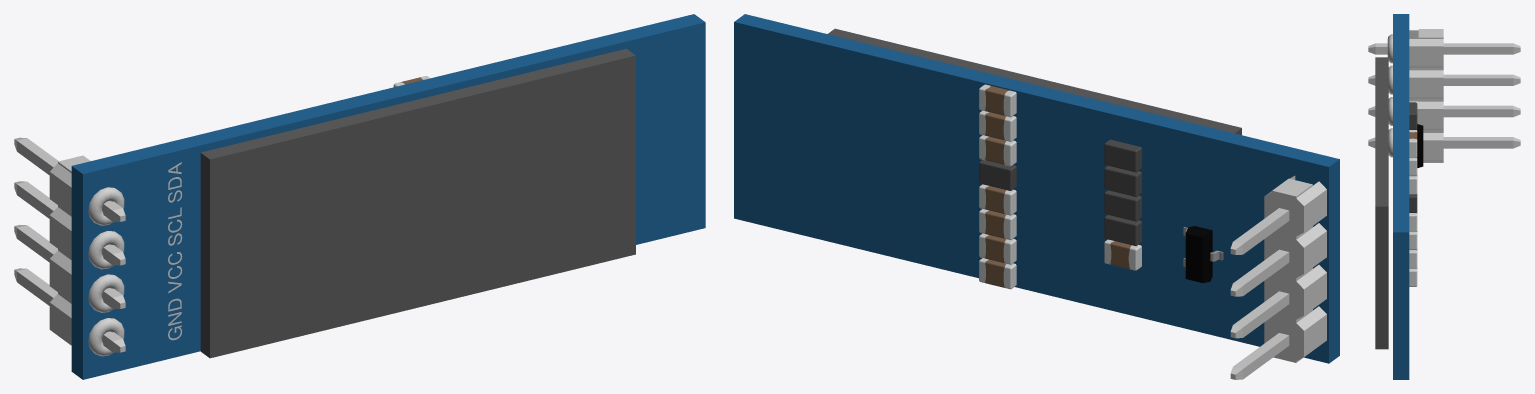
File: OLED 128x32 Display.obj
The picture shows the model from 3 angles, left to right: view 1: azimuth 30°, elevation 25°; view 2: azimuth 150°, elevation 25°; view 3: azimuth 270°, elevation 25°; orthographic projection. The views are drawn at different scales.
Visible parts, largest first — view 1: Solid1:16, Solid1:15, Solid1, Srf1, Solid4, Solid1:11, Solid2, Solid3; view 2: Solid1:15, Solid1, Solid1:16, Solid1:17, Solid1:9, Solid1:2, Solid1:14, Solid1:1, Solid1:4, Solid1:12, Solid1:8, Solid1:10 (+5 smaller); view 3: Solid1, Solid1:15, Solid1:16, Solid1:17, Solid1:2, Solid1:9, Solid1:3, Solid1:1, Solid1:4, Solid1:13, Solid1:5, Solid1:12 (+2 smaller).
Boxes of the visible parts, x1,y1,x2,y2 form: Solid1:16: (200, 48, 635, 358); Solid1:15: (71, 14, 705, 379); Solid1: (14, 137, 125, 352); Srf1: (168, 162, 182, 340); Solid4: (88, 187, 124, 225); Solid1:11: (88, 318, 124, 356); Solid2: (88, 274, 124, 312); Solid3: (88, 231, 124, 269); Solid1:15: (734, 14, 1339, 363); Solid1: (1230, 176, 1326, 379); Solid1:16: (828, 28, 1241, 134); Solid1:17: (1183, 226, 1223, 282); Solid1:9: (1104, 139, 1141, 172); Solid1:2: (979, 84, 1016, 117); Solid1:14: (979, 209, 1016, 240); Solid1:1: (979, 135, 1016, 166); Solid1:4: (979, 184, 1016, 215); Solid1:12: (979, 258, 1016, 289); Solid1:8: (1104, 166, 1141, 196); Solid1:10: (1104, 190, 1141, 221); Solid1: (1368, 29, 1520, 162); Solid1:15: (1393, 14, 1409, 379); Solid1:16: (1375, 57, 1388, 349); Solid1:17: (1417, 124, 1423, 167); Solid1:2: (1409, 130, 1417, 157); Solid1:9: (1409, 102, 1417, 129); Solid1:3: (1409, 157, 1417, 176); Solid1:1: (1409, 175, 1417, 194); Solid1:4: (1409, 212, 1417, 231); Solid1:13: (1409, 249, 1417, 268); Solid1:5: (1409, 194, 1417, 212); Solid1:12: (1409, 268, 1417, 286).
Bounding box in the file's own units: 38 × 12 × 11.2.
